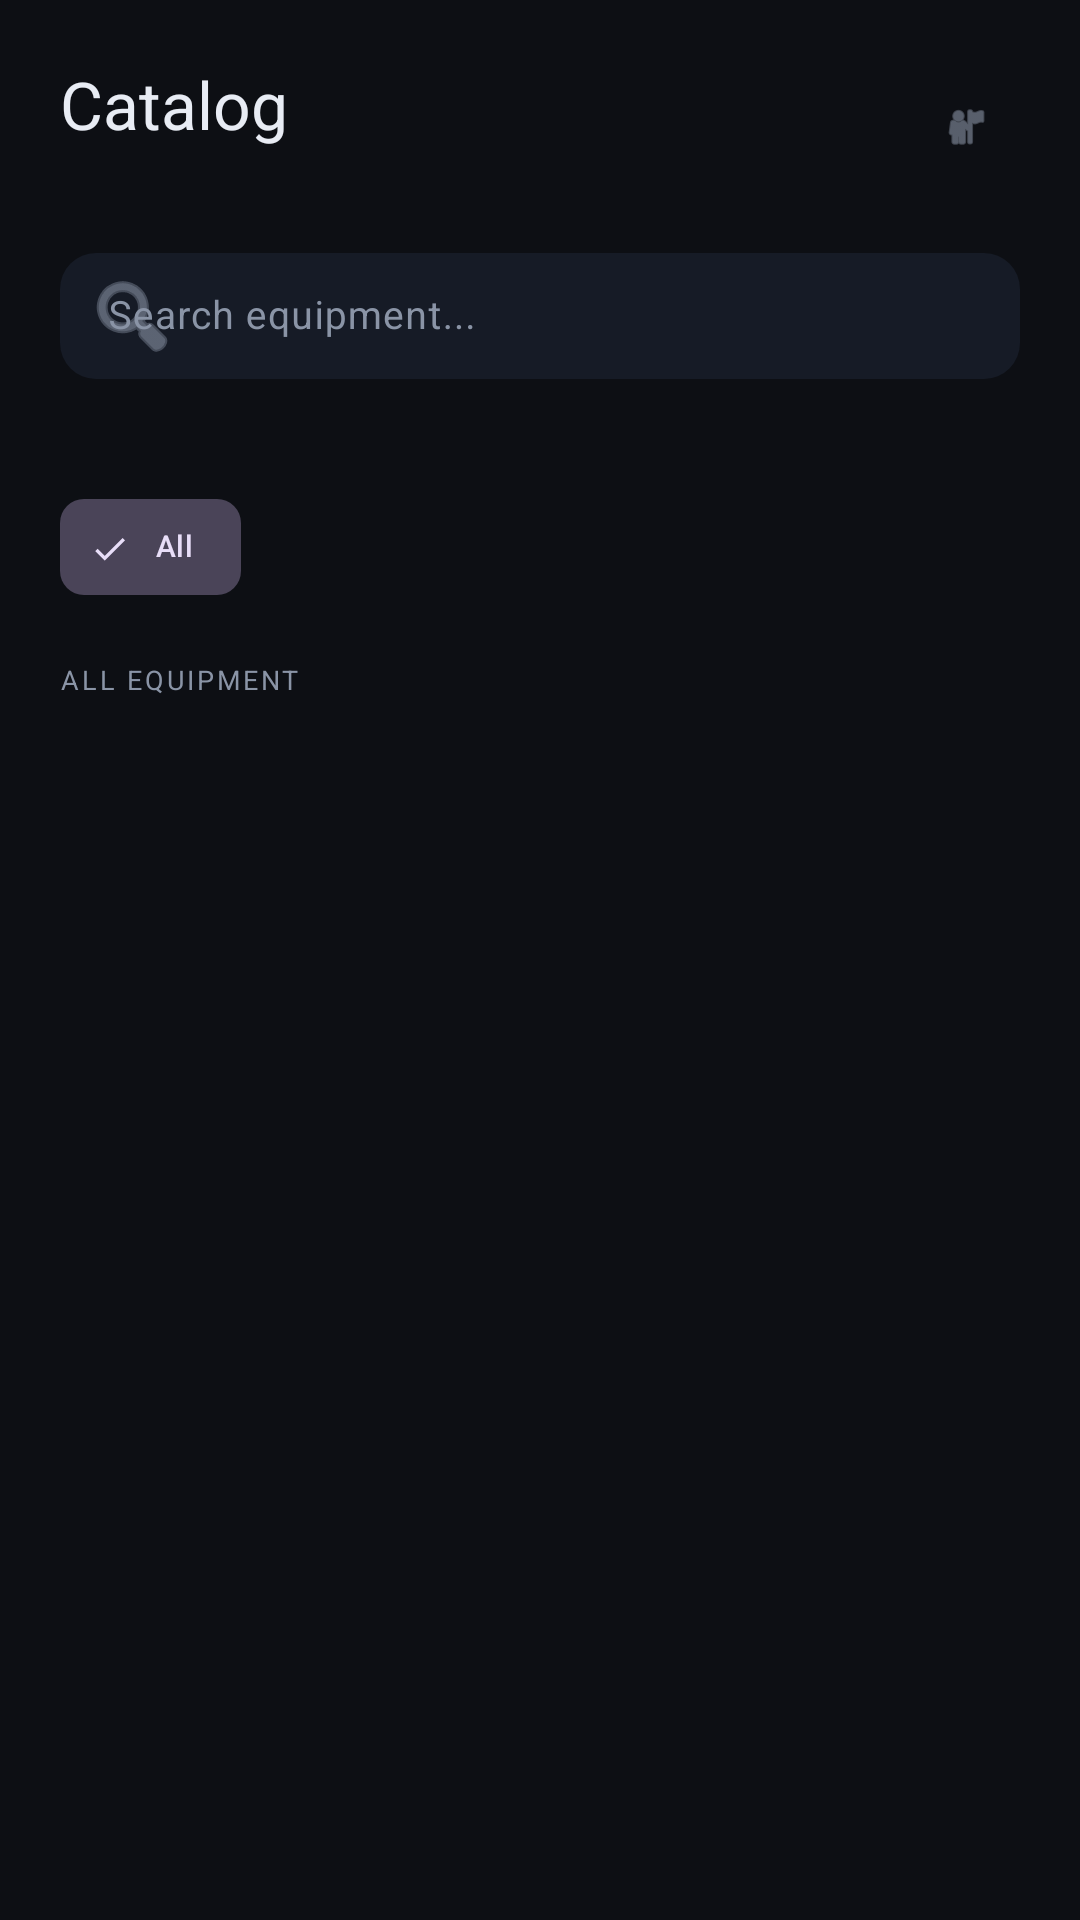

Where to tap for icons on this 1080x1920 app screen, as (x=x, y=y):
Profile: (x=966, y=127)
